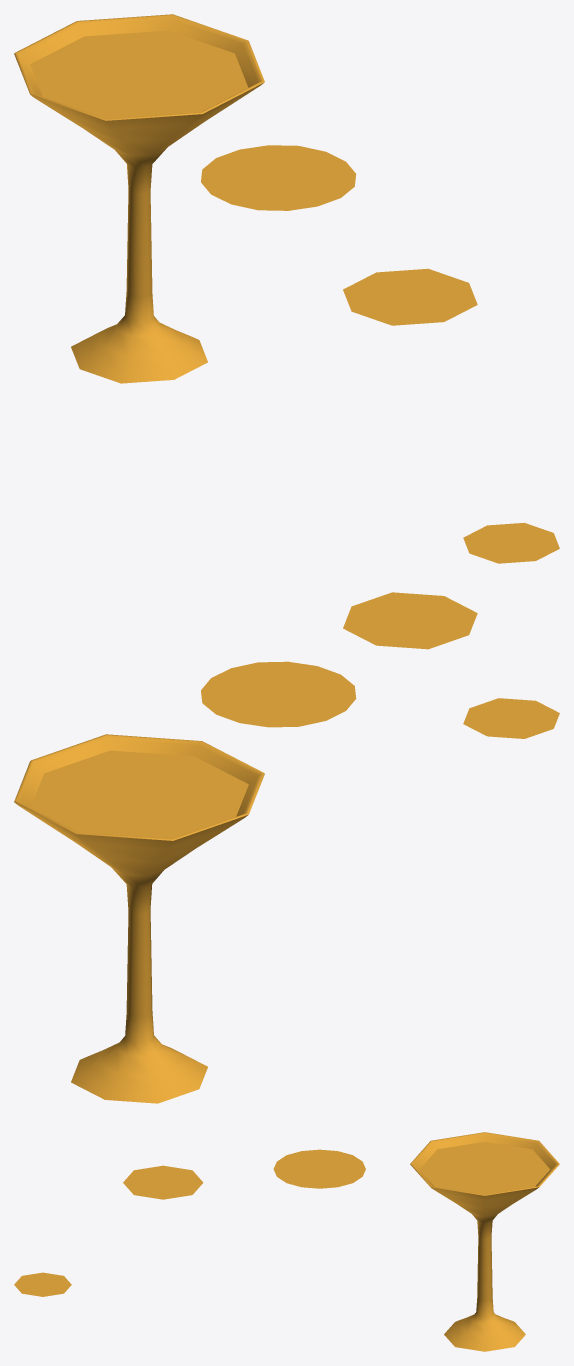
Rendered from Drinks Other.fbx.
3 views of the same model, one above another, from view 1: azimuth 30°, elevation 25°; view 2: azimuth 150°, elevation 25°; view 3: azimuth 270°, elevation 25° (orthographic). The views are drawn at different scales.
Parts seen in each view (by area): view 1: Martini Glass.002, Martini Drink Surface, Beer Drink Surface, Tall Glass Drink Surface, Shot Glass Drink Surface; view 2: Martini Glass.002, Martini Drink Surface, Beer Drink Surface, Tall Glass Drink Surface, Shot Glass Drink Surface; view 3: Martini Glass.002, Martini Drink Surface, Beer Drink Surface, Tall Glass Drink Surface, Shot Glass Drink Surface.
Part boxes in pixels (x1,y1,x2,y2): Martini Glass.002: [14, 14, 264, 383]; Martini Drink Surface: [30, 30, 248, 118]; Beer Drink Surface: [201, 145, 356, 210]; Tall Glass Drink Surface: [343, 268, 477, 325]; Shot Glass Drink Surface: [463, 522, 559, 563]; Martini Glass.002: [14, 734, 264, 1103]; Martini Drink Surface: [30, 750, 248, 838]; Beer Drink Surface: [201, 661, 356, 727]; Tall Glass Drink Surface: [343, 592, 477, 649]; Shot Glass Drink Surface: [463, 698, 559, 738]; Martini Glass.002: [410, 1132, 559, 1351]; Martini Drink Surface: [419, 1142, 549, 1194]; Beer Drink Surface: [273, 1149, 365, 1188]; Tall Glass Drink Surface: [123, 1165, 203, 1199]; Shot Glass Drink Surface: [14, 1272, 71, 1296].
Size of the model in its own units: 12.49 by 45.42 by 15.68.
